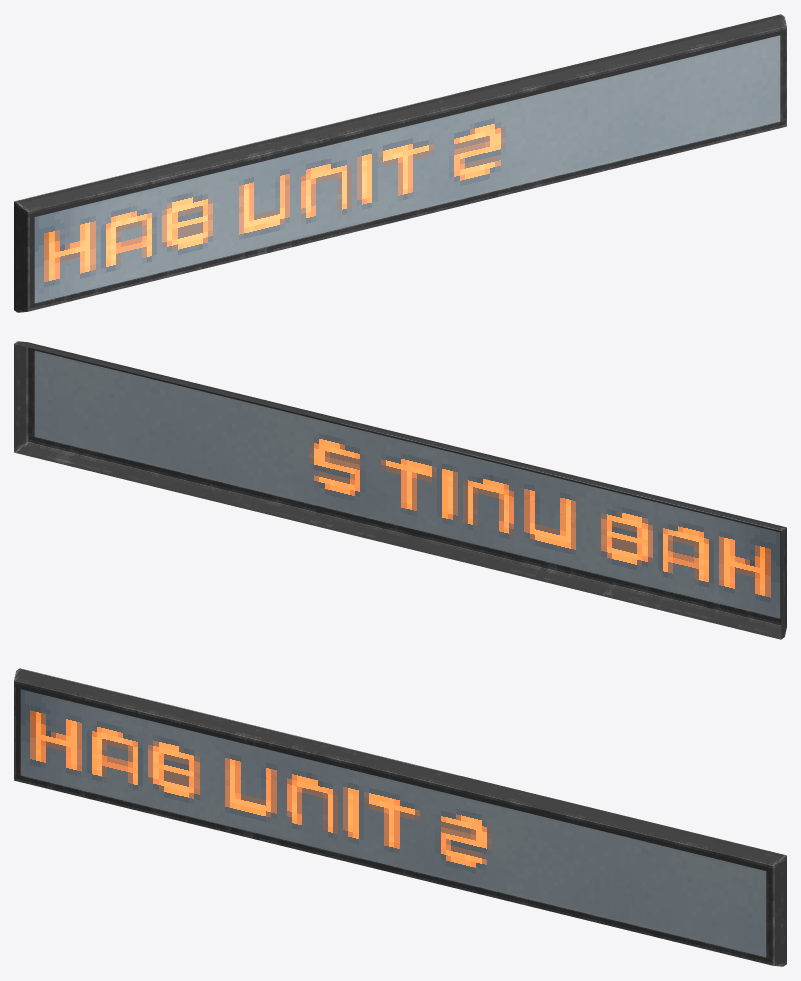
File: large_habunit2.glb
The picture shows the model from 3 angles, top to bottom: view 1: azimuth 30°, elevation 25°; view 2: azimuth 150°, elevation 25°; view 3: azimuth 330°, elevation 25°; orthographic projection.
Visible parts, largest first — view 1: Sign-Large_HabUnit2; view 2: Sign-Large_HabUnit2; view 3: Sign-Large_HabUnit2.
Part boxes in pixels (left/top/right/bottom): Sign-Large_HabUnit2: left=14, top=14, right=786, bottom=312; Sign-Large_HabUnit2: left=14, top=341, right=786, bottom=639; Sign-Large_HabUnit2: left=14, top=668, right=786, bottom=966.
Size of the model in its own units: 18.61 by 2.52 by 0.4128.
1 material, 1 textured.
